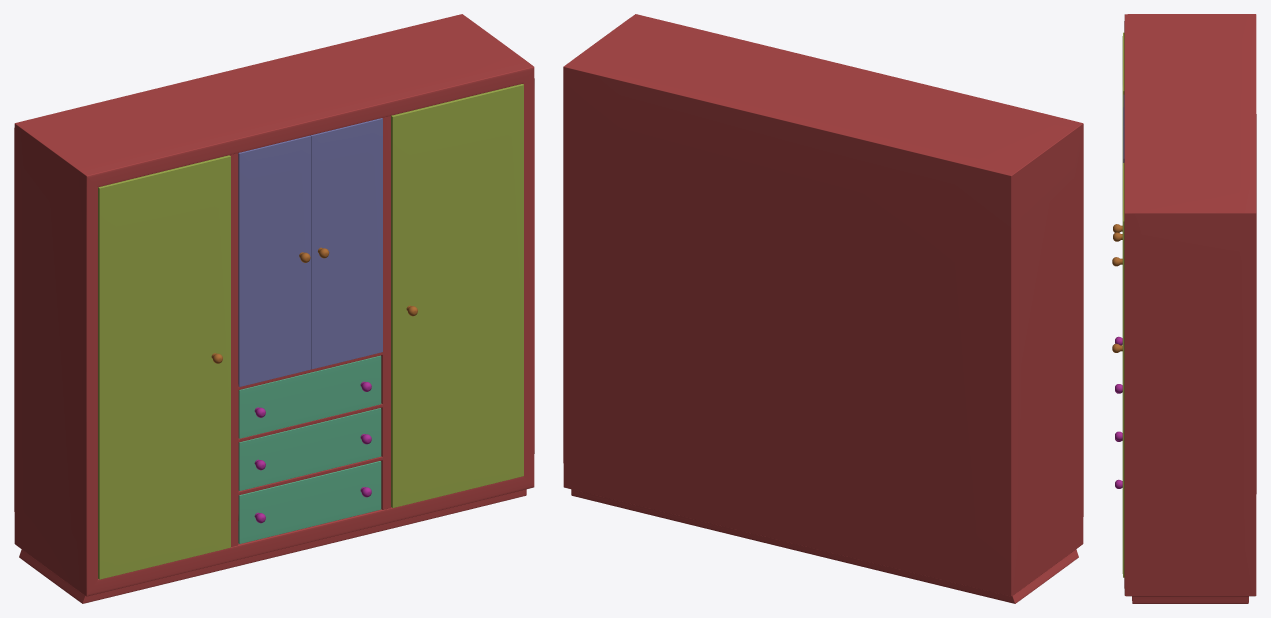
The model's file is INTE_ArmarioPrimo.fbx.
3 views of the same model, side by side, from view 1: azimuth 30°, elevation 25°; view 2: azimuth 150°, elevation 25°; view 3: azimuth 270°, elevation 25° (orthographic). The views are drawn at different scales.
Parts seen in each view (by area): view 1: Armario, PortaGrande_E, PortaGrande_D, Gaveta1 (×3), PortaPequena_E, PortaPequena_D; view 2: Armario; view 3: Armario, PortaGrande_D, PortaGrande_E.
Part boxes in pixels (bbox=[...]): Armario: bbox=[14, 14, 534, 603]; PortaGrande_E: bbox=[98, 155, 230, 579]; PortaGrande_D: bbox=[391, 84, 523, 507]; Gaveta1 (×3): bbox=[238, 355, 381, 543]; PortaPequena_E: bbox=[238, 135, 310, 386]; PortaPequena_D: bbox=[310, 118, 382, 369]; Armario: bbox=[563, 14, 1083, 603]; Armario: bbox=[1124, 14, 1256, 603]; PortaGrande_D: bbox=[1122, 163, 1124, 577]; PortaGrande_E: bbox=[1122, 32, 1124, 165].
Bounding box in the file's own units: 25 × 23 × 7.64.
